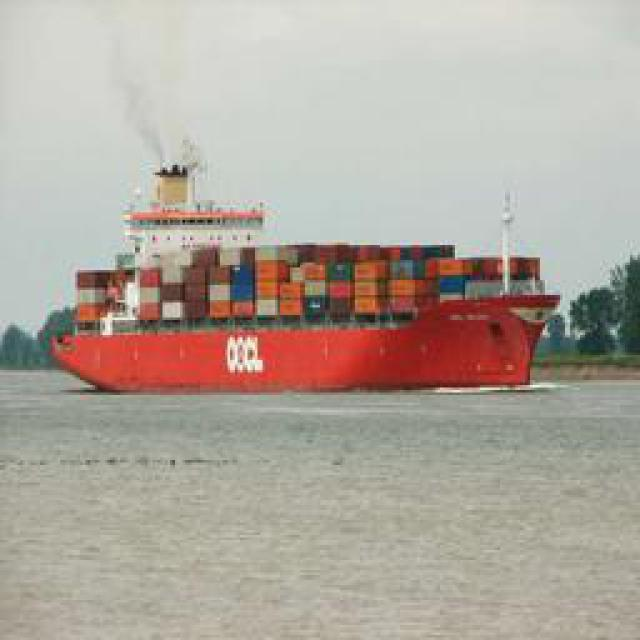Ship: (40, 178, 555, 393)
